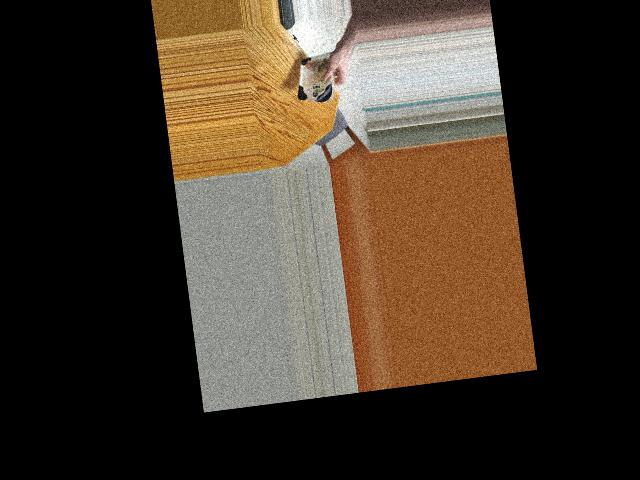cheese: (294, 43, 341, 107)
